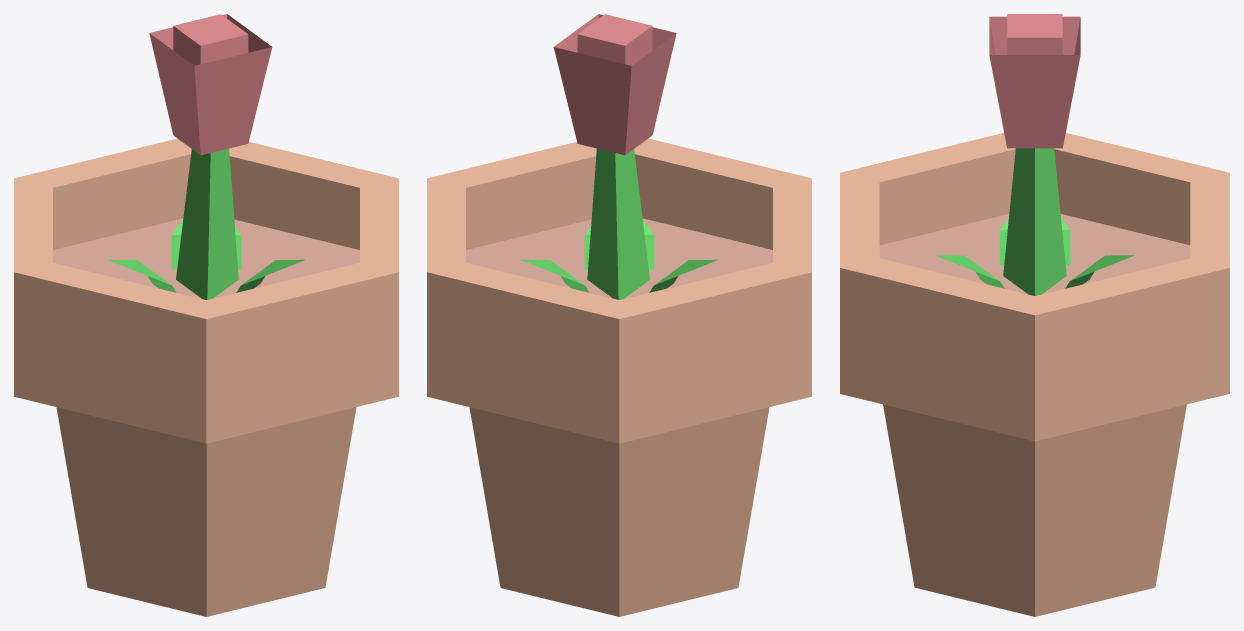
File: pot_small_flower.glb
3 views of the same model, side by side, from view 1: azimuth 30°, elevation 25°; view 2: azimuth 150°, elevation 25°; view 3: azimuth 270°, elevation 25° (orthographic).
Visible parts, largest first — view 1: pot_small, flower_redA; view 2: pot_small, flower_redA; view 3: pot_small, flower_redA.
Part boxes in pixels (left/top/right/bottom): pot_small: left=14, top=138, right=398, bottom=616; flower_redA: left=107, top=14, right=305, bottom=299; pot_small: left=427, top=138, right=811, bottom=616; flower_redA: left=520, top=14, right=718, bottom=299; pot_small: left=840, top=133, right=1229, bottom=616; flower_redA: left=935, top=14, right=1134, bottom=295.
Size of the model in its own units: 0.4577 by 0.6 by 0.3964.
